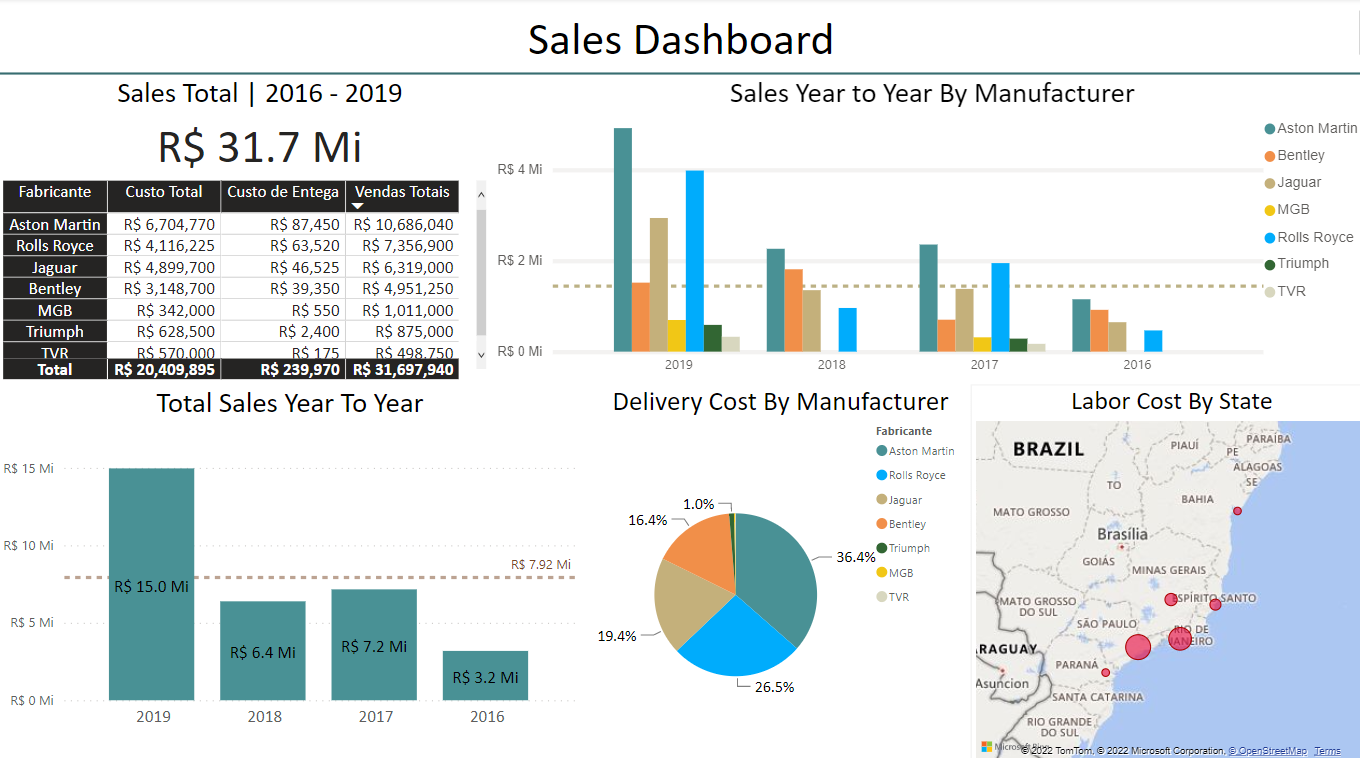

This screenshot's page, from the dashboard's own definition file:
{"tool":"powerbi","page":{"name":"Página 1","canvas":[1280,720],"ordinal":0},"visuals":[{"type":"clusteredColumnChart","title":"Total de Vendas Por Ano","fields":{"Category":["VendaCarros.Ano"],"Y":["Sum(VendaCarros.ValorVenda)"]},"box":[24.4,86.1,532.9,273.5],"z":0},{"type":"pieChart","title":"Custo Entrega Por Fabricante","fields":{"Y":["Sum(VendaCarros.CustoEntrega)"],"Category":["VendaCarros.Fabricante"]},"box":[24.4,359.6,615.6,352.6],"z":1000},{"type":"map","title":"Custo de Mão de Obra Por Estado","fields":{"Category":["VendaCarros.Estado"],"Size":["Sum(VendaCarros.CustoMaoDeObra)"]},"box":[647,359.6,610.9,352.6],"z":2000},{"type":"card","title":"Vendas Totais","fields":{"Values":["Sum(VendaCarros.ValorVenda)"]},"box":[592.3,86.1,166.4,238.5],"z":3000},{"type":"pivotTable","title":"Matriz de Vendas","fields":{"Rows":["VendaCarros.Fabricante"],"Values":["Sum(VendaCarros.CustoEntrega)","Sum(VendaCarros.ValorCusto)","Sum(VendaCarros.ValorVenda)"]},"box":[792.4,86.1,465.5,273.5],"z":4000},{"type":"textbox","box":[24.4,7,1170.6,61.7],"z":4001}]}

Visuals, with their boxes in screenshot pixels (x1, y1, x2, y2), scaled from the page's 1280x720 canvas onto the 1360x758 screenshot:
"Total de Vendas Por Ano" clusteredColumnChart: region(26, 91, 592, 379)
"Custo Entrega Por Fabricante" pieChart: region(26, 379, 680, 750)
"Custo de Mão de Obra Por Estado" map: region(687, 379, 1337, 750)
"Vendas Totais" card: region(629, 91, 806, 342)
"Matriz de Vendas" pivotTable: region(842, 91, 1337, 379)
textbox: region(26, 7, 1270, 72)
